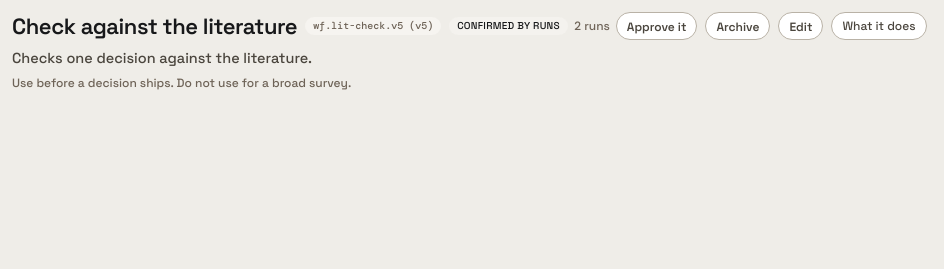
Test: WorkflowHeader › edits round-trip through the PATCH route and land on screen
The width and height of the screenshot is (944, 269).
Click the button "Edit" at (801, 26), box [778,12,823,40]
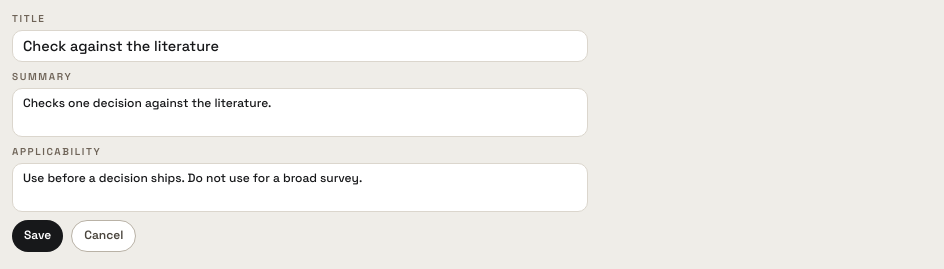
Replace the text in the field named "Title" with "Check the literature first" at (300, 46), box [12,30,588,62]
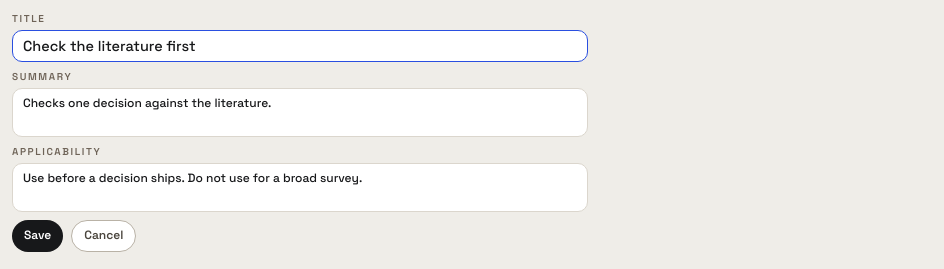
Replace the text in the text box named "Summary" with "New summary." at (300, 112), box [12,88,588,137]
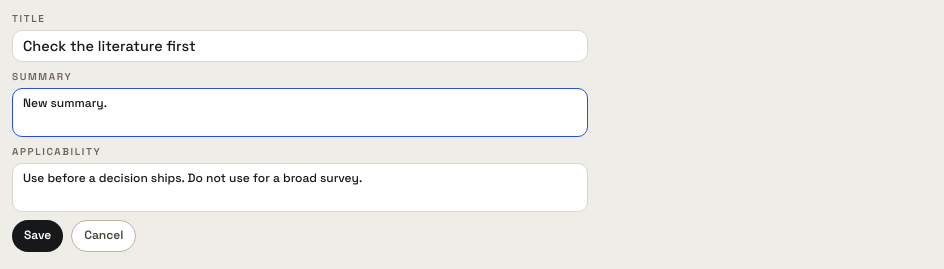
Replace the text in the text box named "Applicability" with "New applicability." at (300, 187), box [12,163,588,212]
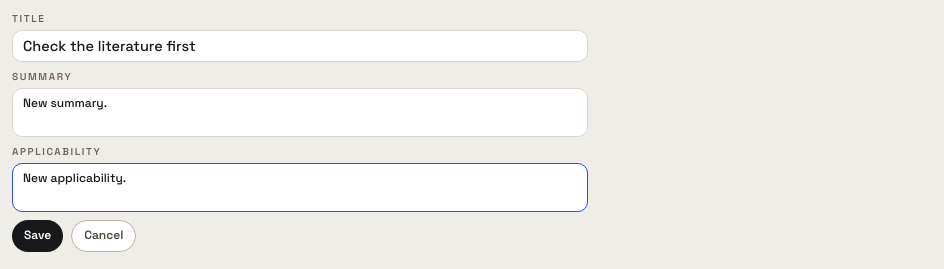
Click the button "Save" at (38, 236), box [12,220,63,252]
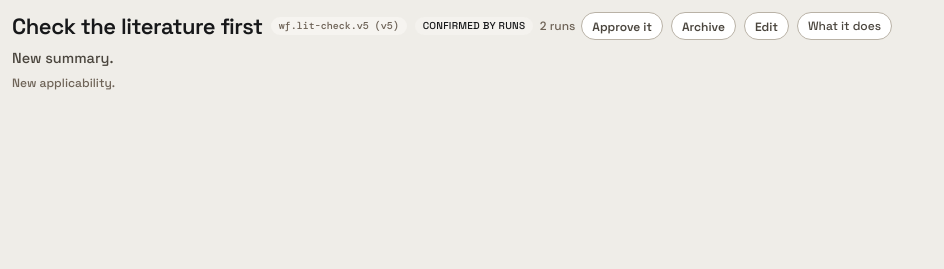
Expected: the heading "Check the literature first" is shown, [12,12,263,41]
Expected: the text "New summary." is shown, [12,49,114,67]
Expected: the button "Save" is gone
